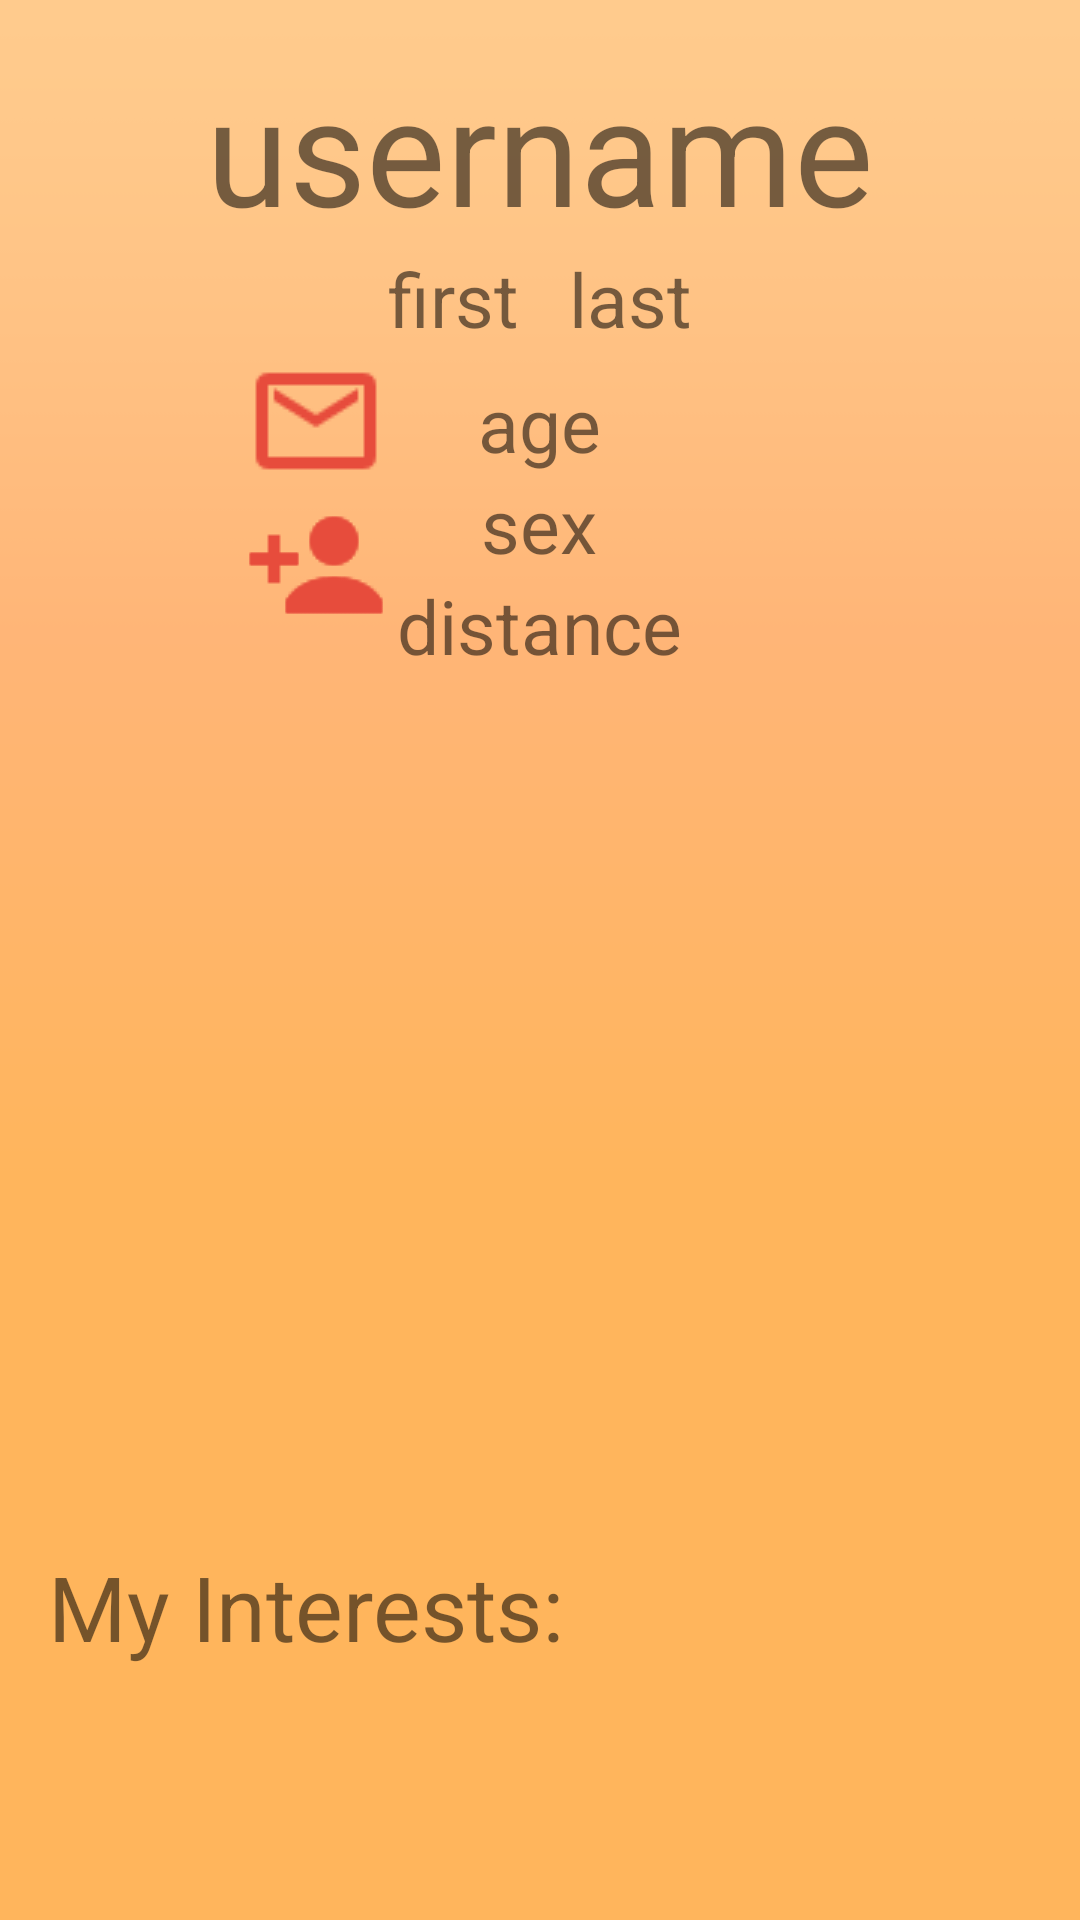

Point at icon controls on the screen. Image size 1080w x 1920h, points as point (x, y).
message: point (316, 421)
